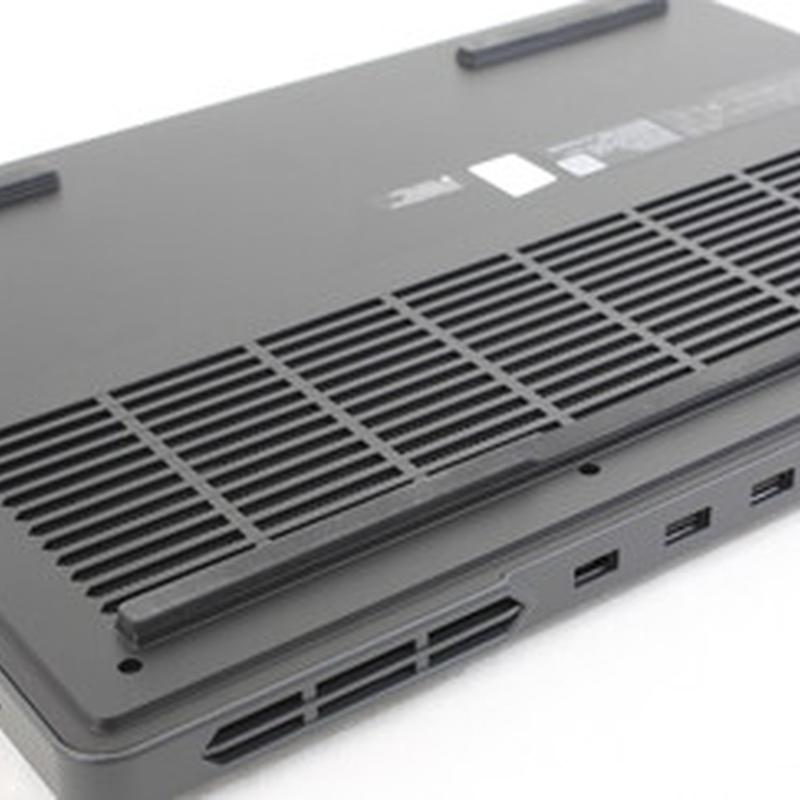USB: (548, 539, 642, 597), (653, 493, 720, 549), (747, 465, 799, 523)
